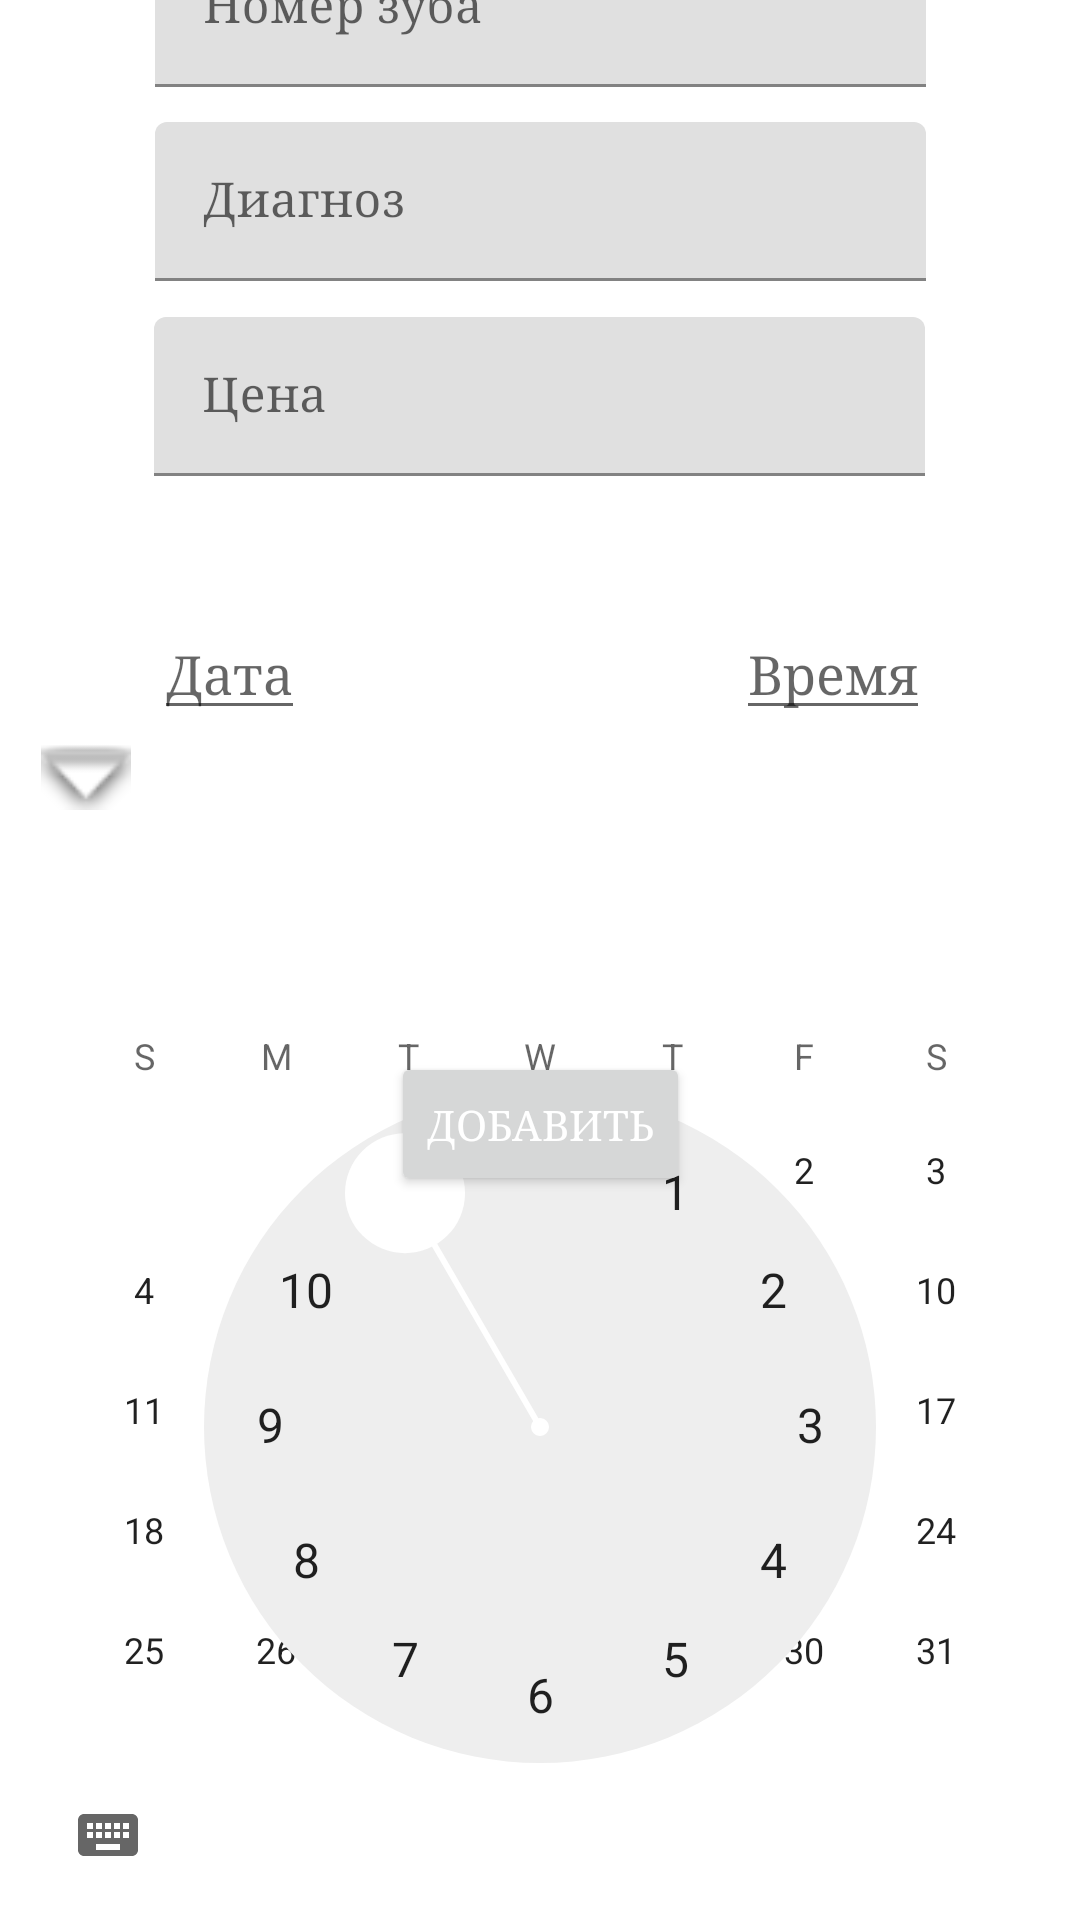

Icons on this 1080*1920 Android screen, each with the point to tap as (x,y):
arrow down float: (86,777)
